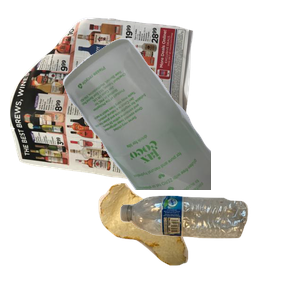glass: (60, 36, 300, 216)
paper: (10, 15, 196, 195)
plastic: (118, 193, 300, 300)
trash: (96, 181, 277, 300)
